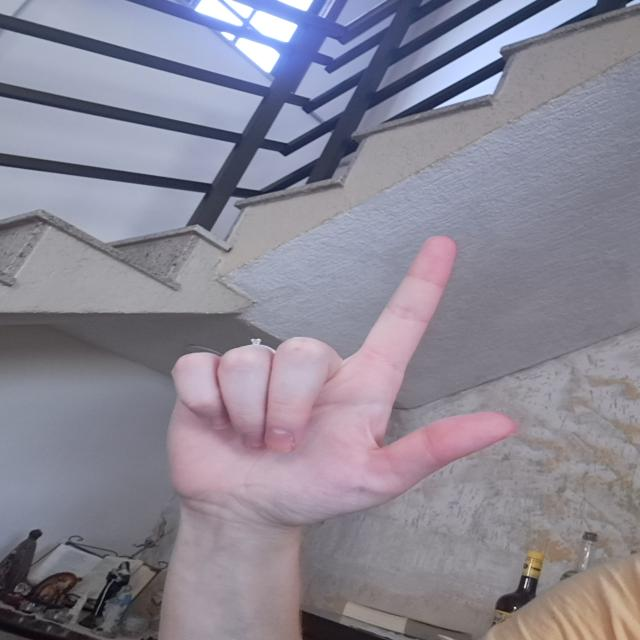L: (157, 208, 523, 527)
